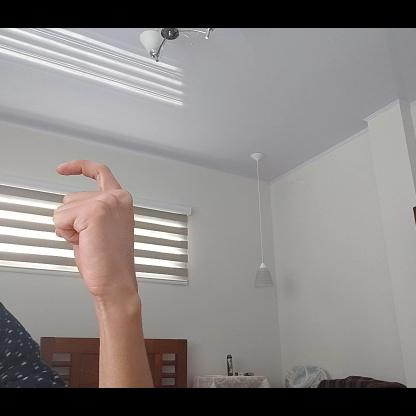X: (52, 156, 144, 314)
